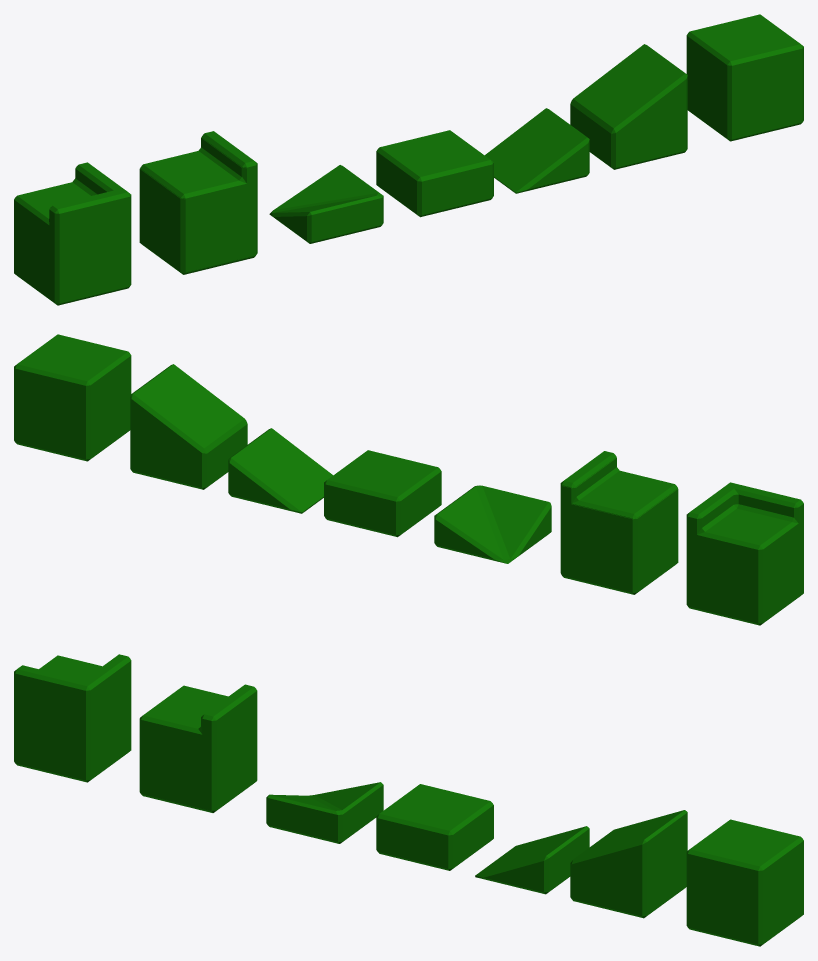
Rendered from world-blocks-v1.glb.
3 renders of one model, top to bottom at view 1: azimuth 30°, elevation 25°; view 2: azimuth 150°, elevation 25°; view 3: azimuth 330°, elevation 25°, orthographic.
Visible parts, largest first — view 1: BlockWall, BlockWallCorner, Block, RampTop, BlockShort, RampBottom, RampLowerCorner; view 2: BlockWallCorner, BlockWall, Block, RampTop, BlockShort, RampLowerCorner, RampBottom; view 3: BlockWallCorner, BlockWall, Block, RampTop, BlockShort, RampLowerCorner, RampBottom.
Part boxes in pixels (x1=…): BlockWall: x1=139, y1=131, x2=257, y2=274; BlockWallCorner: x1=14, y1=162, x2=131, y2=305; Block: x1=686, y1=14, x2=803, y2=141; RampTop: x1=570, y1=44, x2=687, y2=169; BlockShort: x1=376, y1=130, x2=493, y2=217; RampBottom: x1=485, y1=108, x2=589, y2=193; RampLowerCorner: x1=269, y1=165, x2=383, y2=243; BlockWallCorner: x1=686, y1=482, x2=803, y2=625; BlockWall: x1=560, y1=451, x2=678, y2=594; Block: x1=14, y1=334, x2=131, y2=461; RampTop: x1=130, y1=364, x2=247, y2=489; BlockShort: x1=324, y1=450, x2=441, y2=537; RampLowerCorner: x1=434, y1=485, x2=551, y2=563; RampBottom: x1=228, y1=428, x2=332, y2=513; BlockWallCorner: x1=14, y1=654, x2=131, y2=782; BlockWall: x1=139, y1=684, x2=257, y2=812; Block: x1=686, y1=819, x2=803, y2=946; RampTop: x1=570, y1=810, x2=687, y2=918; BlockShort: x1=376, y1=784, x2=493, y2=870; RampLowerCorner: x1=266, y1=782, x2=383, y2=843; RampBottom: x1=475, y1=826, x2=589, y2=894.
Size of what is drawn, in the model's own units: 19.54 by 2.42 by 2.01.
